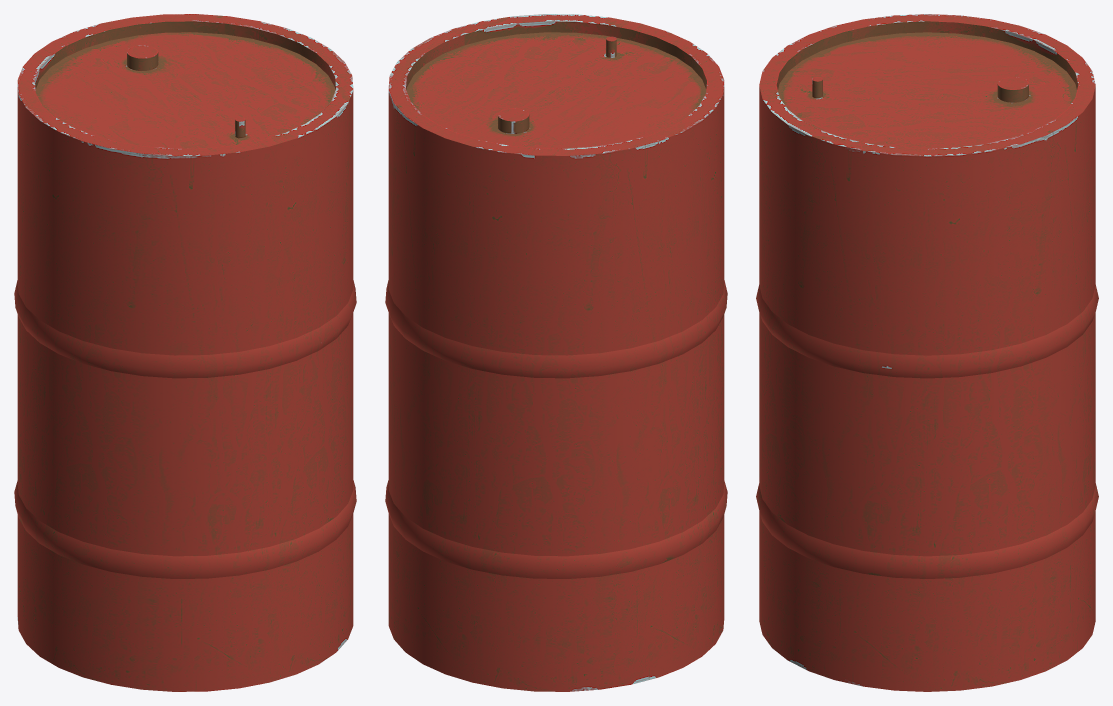
3 views of the same model, side by side, from view 1: azimuth 30°, elevation 25°; view 2: azimuth 150°, elevation 25°; view 3: azimuth 270°, elevation 25° (orthographic).
Visible parts, largest first — view 1: barrelred; view 2: barrelred; view 3: barrelred.
Part boxes in pixels (x1,y1,x2,y2): barrelred: [14, 14, 356, 691]; barrelred: [385, 14, 727, 691]; barrelred: [756, 14, 1098, 691].
Size of the model in its own units: 204 by 355 by 204.
Materials: 1 (1 with a texture image).
